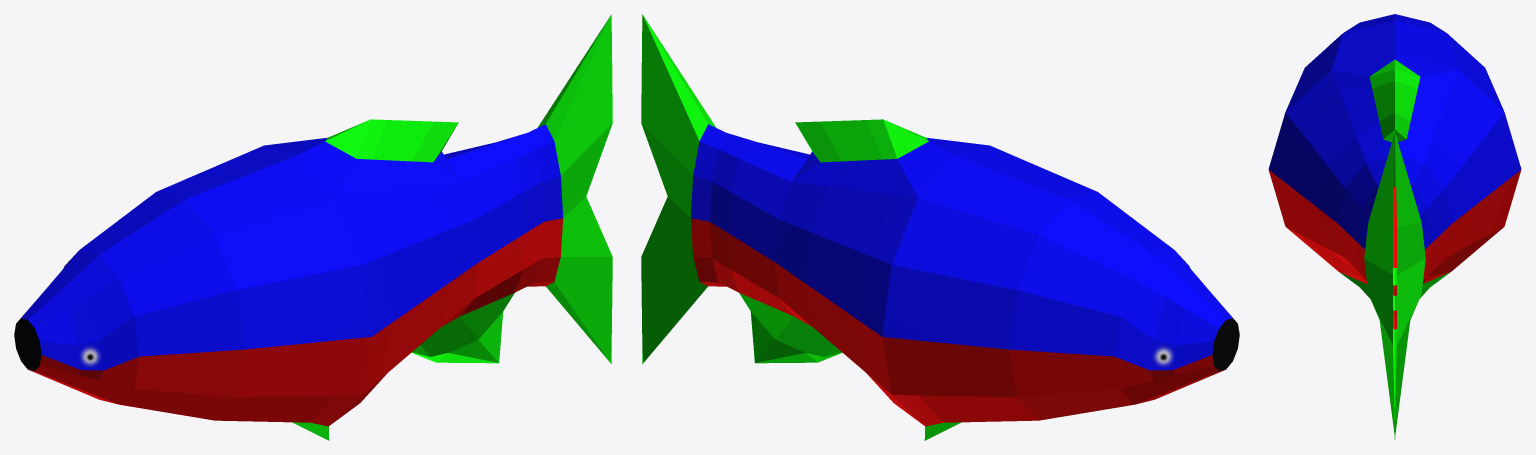
The model's file is Fish.fbx.
The picture shows the model from 3 angles, left to right: view 1: azimuth 30°, elevation 25°; view 2: azimuth 150°, elevation 25°; view 3: azimuth 270°, elevation 25°; orthographic projection. The views are drawn at different scales.
Visible parts, largest first — view 1: Cylinder; view 2: Cylinder; view 3: Cylinder.
Boxes of the visible parts, x1=… form: Cylinder: x1=14, y1=14, x2=612, y2=440; Cylinder: x1=641, y1=14, x2=1239, y2=440; Cylinder: x1=1268, y1=14, x2=1521, y2=439.
Size of the model in its own units: 448 by 263 by 191.
